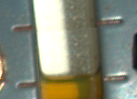border: (96, 15, 124, 28), (99, 73, 130, 84), (13, 79, 42, 90), (11, 22, 36, 34)
liquidlevel: (38, 70, 104, 86)
